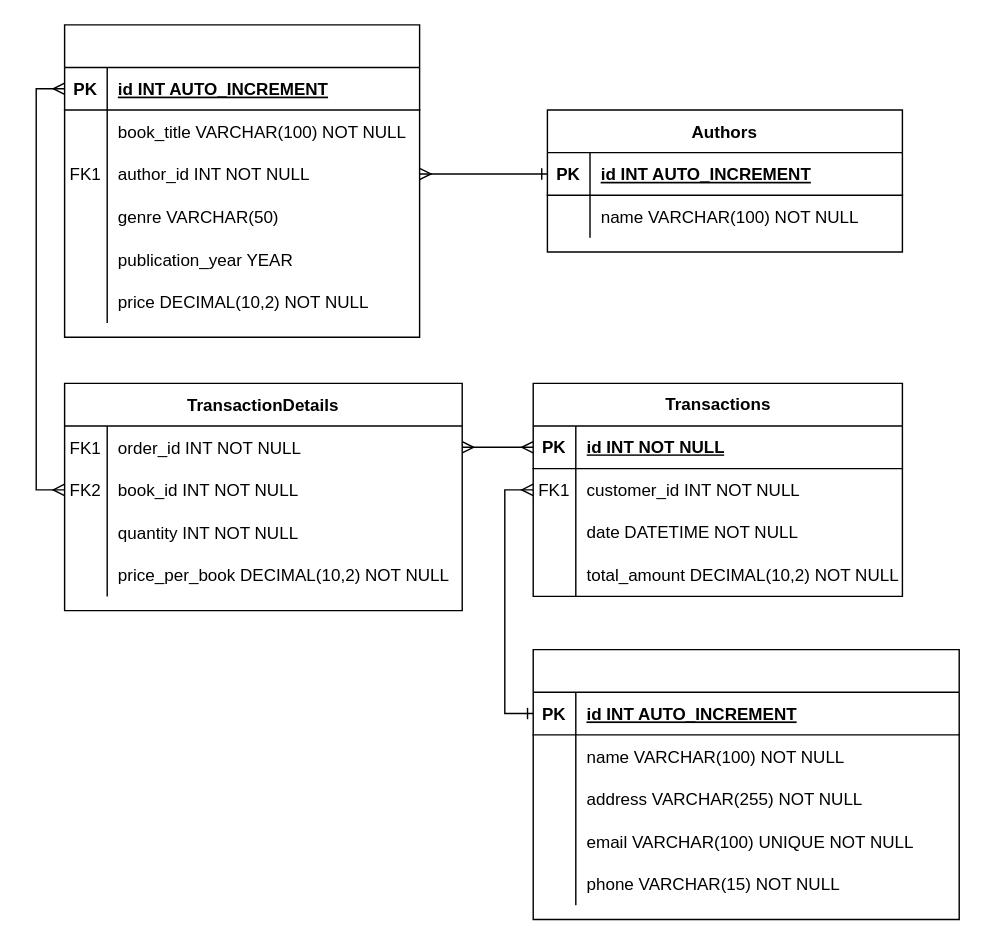
The diagram is 984 pixels wide and 944 high, and some of its shapes have lost their labels. The shapes that lost their labels are listed below. From the top down, each one's box as (x1, y1, x2, y2) in pixels, then its label:
(63, 23, 420, 337): Books
(532, 648, 959, 919): Customers
